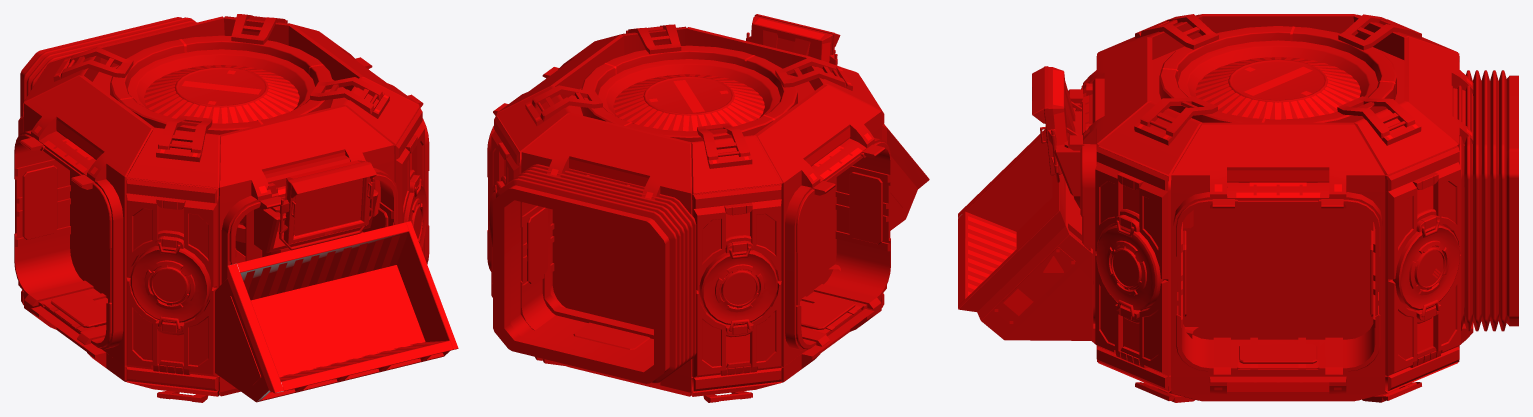
File: MiniHopper0.1ex.fbx
3 views of the same model, side by side, from view 1: azimuth 30°, elevation 25°; view 2: azimuth 150°, elevation 25°; view 3: azimuth 270°, elevation 25° (orthographic). The views are drawn at different scales.
Parts seen in each view (by area): view 1: SM_ConveyorMerger_01; view 2: SM_ConveyorMerger_01; view 3: SM_ConveyorMerger_01.
Boxes of the visible parts, x1,y1,x2,y2 form: SM_ConveyorMerger_01: [14, 14, 458, 402]; SM_ConveyorMerger_01: [487, 14, 929, 402]; SM_ConveyorMerger_01: [958, 14, 1518, 402].
Bounding box in the file's own units: 413 × 315 × 552.
